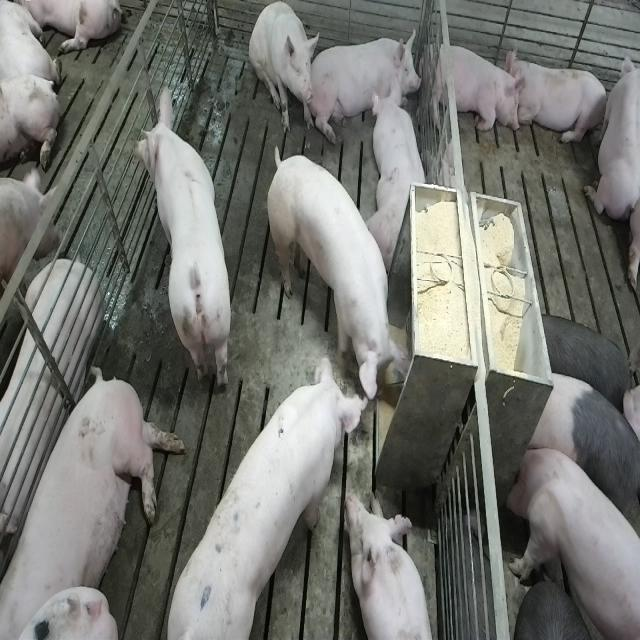Lateral_lying: (3, 362, 187, 636), (0, 259, 103, 546)
Sitting: (249, 3, 319, 136)
Standing: (164, 350, 372, 636), (265, 152, 405, 416), (131, 86, 232, 397), (505, 441, 638, 640), (524, 370, 638, 547), (532, 308, 632, 416), (0, 163, 39, 308)
Sternal_lying: (348, 489, 439, 640), (312, 27, 420, 137), (371, 85, 430, 272), (425, 38, 524, 138), (510, 51, 610, 149), (584, 42, 637, 224)
